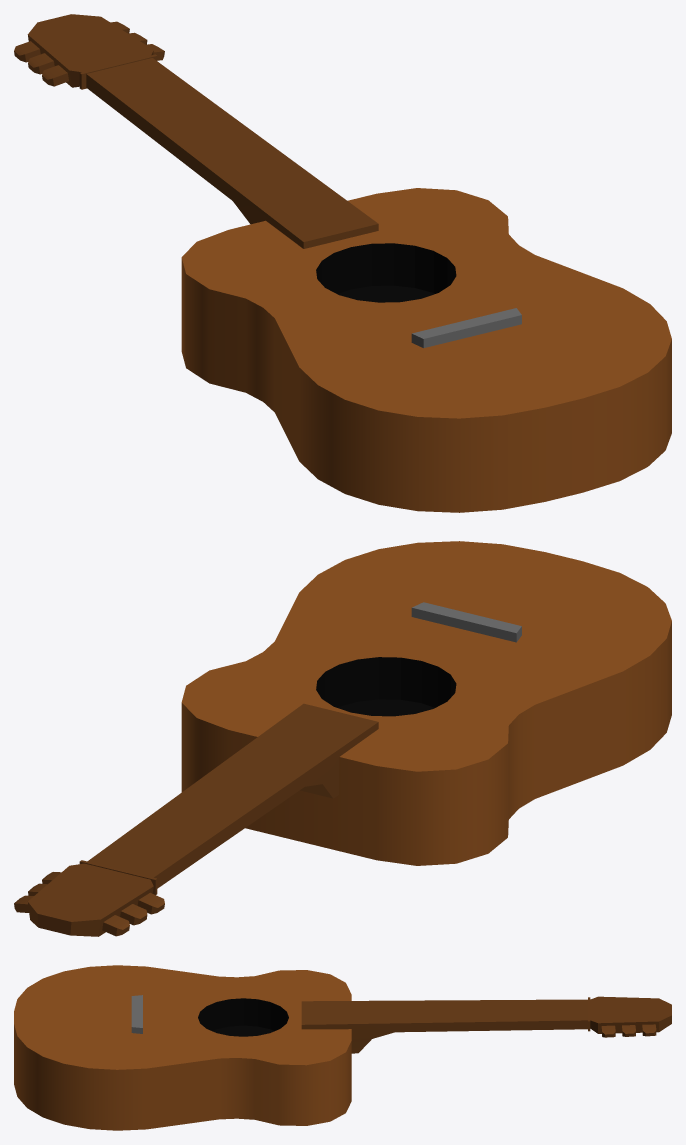
The model's file is Guitar.glb.
3 views of the same model, one above another, from view 1: azimuth 30°, elevation 25°; view 2: azimuth 150°, elevation 25°; view 3: azimuth 270°, elevation 25° (orthographic). The views are drawn at different scales.
Visible parts, largest first — view 1: Guitar.body, Guitar.neck; view 2: Guitar.body, Guitar.neck; view 3: Guitar.body, Guitar.neck.
Part boxes in pixels (x1=…): Guitar.body: x1=181, y1=188, x2=671, y2=512; Guitar.neck: x1=14, y1=14, x2=378, y2=248; Guitar.body: x1=181, y1=541, x2=671, y2=865; Guitar.neck: x1=14, y1=703, x2=378, y2=936; Guitar.body: x1=14, y1=965, x2=351, y2=1130; Guitar.neck: x1=301, y1=996, x2=671, y2=1053.
Size of the model in its own units: 1.04 by 0.3198 by 2.76.
